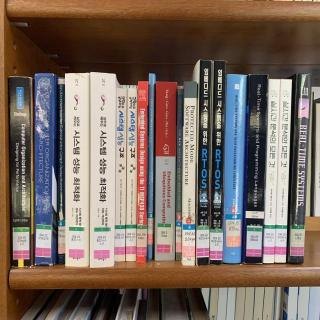book-spine: (89, 72, 116, 268), (221, 74, 247, 264), (64, 73, 89, 266), (244, 74, 269, 264), (32, 73, 54, 265), (290, 72, 312, 264), (9, 77, 31, 267), (155, 82, 177, 261), (209, 61, 226, 265), (263, 79, 280, 264), (275, 79, 292, 263), (197, 60, 212, 266), (183, 81, 197, 266), (114, 89, 127, 262), (137, 82, 148, 263), (126, 89, 137, 262), (146, 73, 155, 260), (57, 77, 65, 264), (176, 89, 183, 260)
